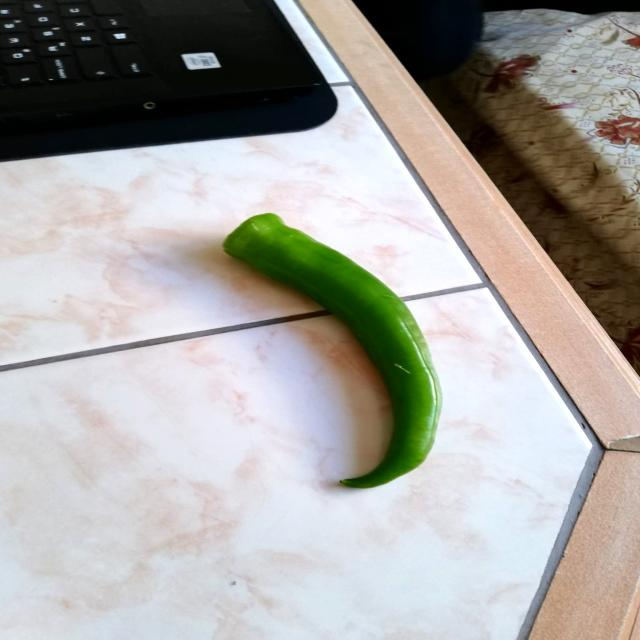green pepper: (218, 209, 450, 493)
